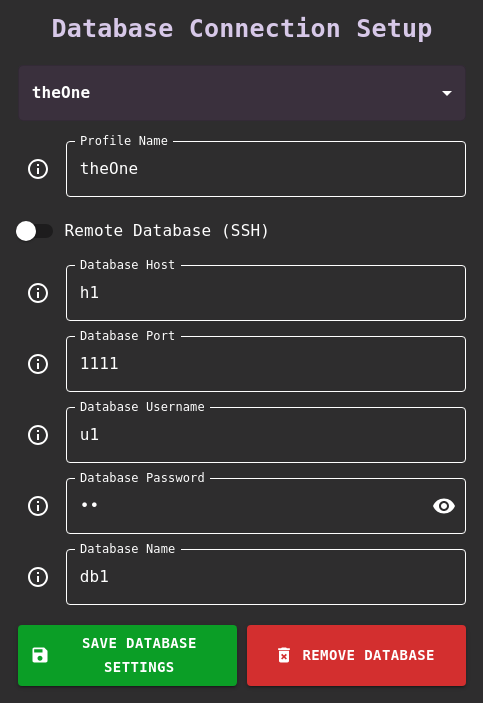
DatabaseSetup › executes both decrypts and hits the `parsed.profileName || ""` line (136)
Expected: the field labelled "Profile Name" holds "theOne", [66,141,466,197]
Step 1. Press the mouse on the dropdown → (61, 93), box [32,83,90,102]
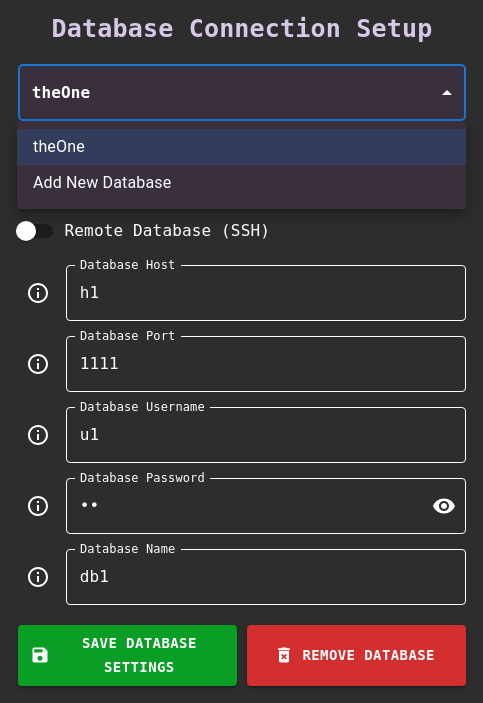
Expected: the option "theOne" is shown, [17,129,466,165]
